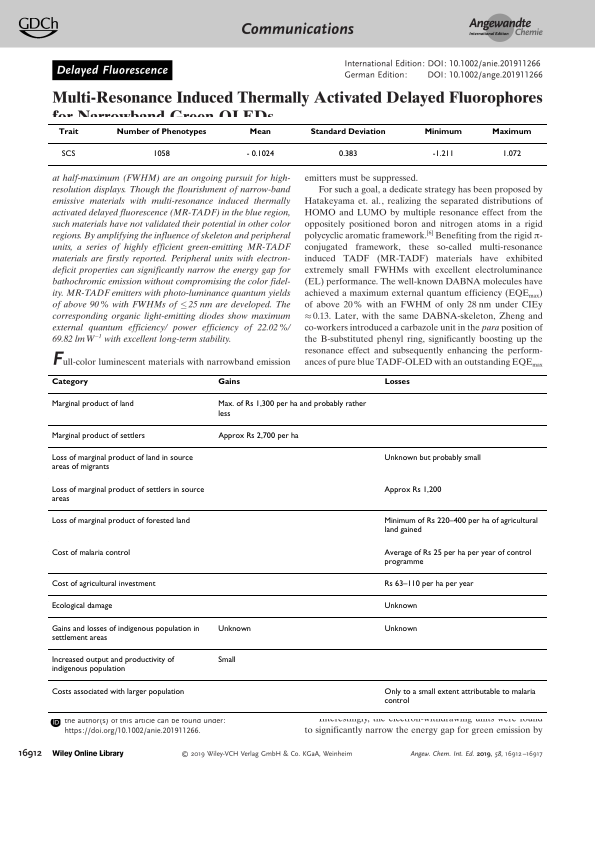borderless: (47, 373, 547, 712), (47, 122, 547, 165)
cell: (50, 485, 205, 504), (383, 516, 538, 535), (383, 687, 536, 706), (217, 400, 367, 419), (50, 624, 200, 643), (383, 548, 532, 567), (50, 453, 193, 472), (50, 655, 175, 674), (50, 516, 190, 526), (50, 687, 185, 697), (50, 579, 156, 589), (383, 453, 481, 463), (50, 431, 145, 441), (383, 579, 474, 589), (115, 127, 207, 136), (217, 431, 299, 441), (50, 548, 131, 558), (50, 400, 134, 409), (309, 127, 386, 136), (383, 485, 442, 495), (50, 602, 113, 611), (491, 127, 532, 136), (423, 127, 462, 136), (383, 624, 418, 634), (50, 378, 88, 387), (217, 624, 251, 634), (383, 602, 418, 611), (383, 378, 410, 387), (245, 149, 275, 157), (217, 378, 240, 387), (248, 127, 271, 136), (57, 127, 79, 136), (217, 655, 236, 665), (431, 149, 454, 157), (501, 149, 522, 157), (338, 149, 358, 157), (152, 149, 170, 157), (60, 149, 76, 157)
